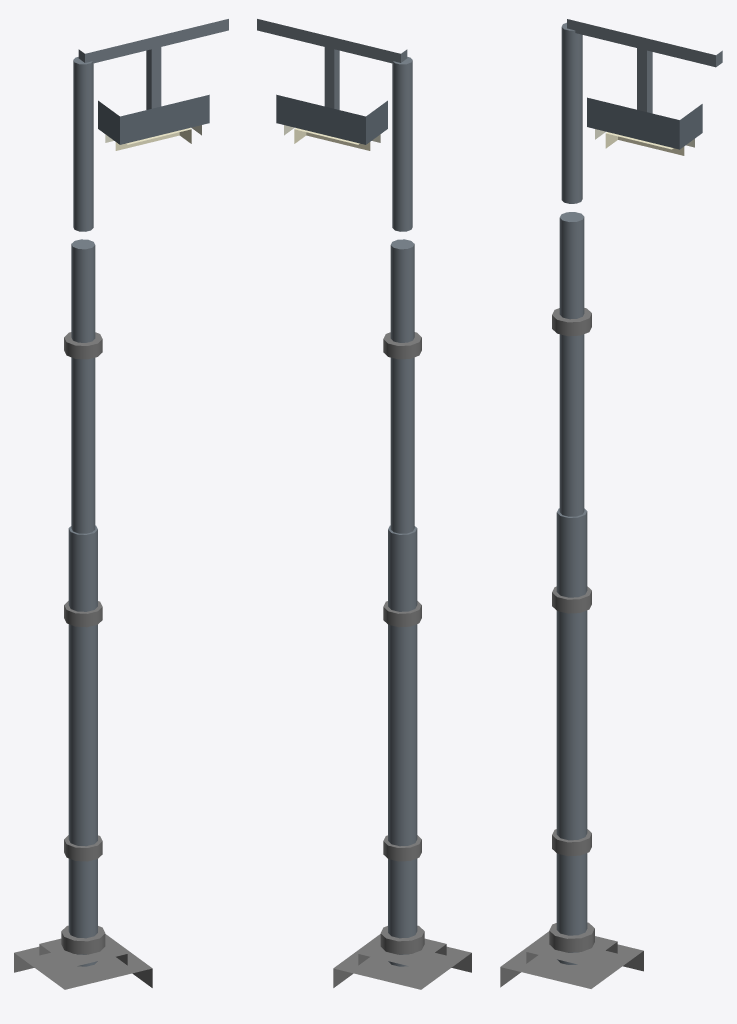
File: lamppost.glb
3 renders of one model, left to right at view 1: azimuth 30°, elevation 25°; view 2: azimuth 150°, elevation 25°; view 3: azimuth 330°, elevation 25°, orthographic. The views are drawn at different scales.
Bounding box in the file's own units: 1.16 × 5.55 × 0.55.
